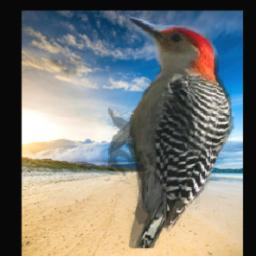Woodpecker: (108, 14, 234, 248)
